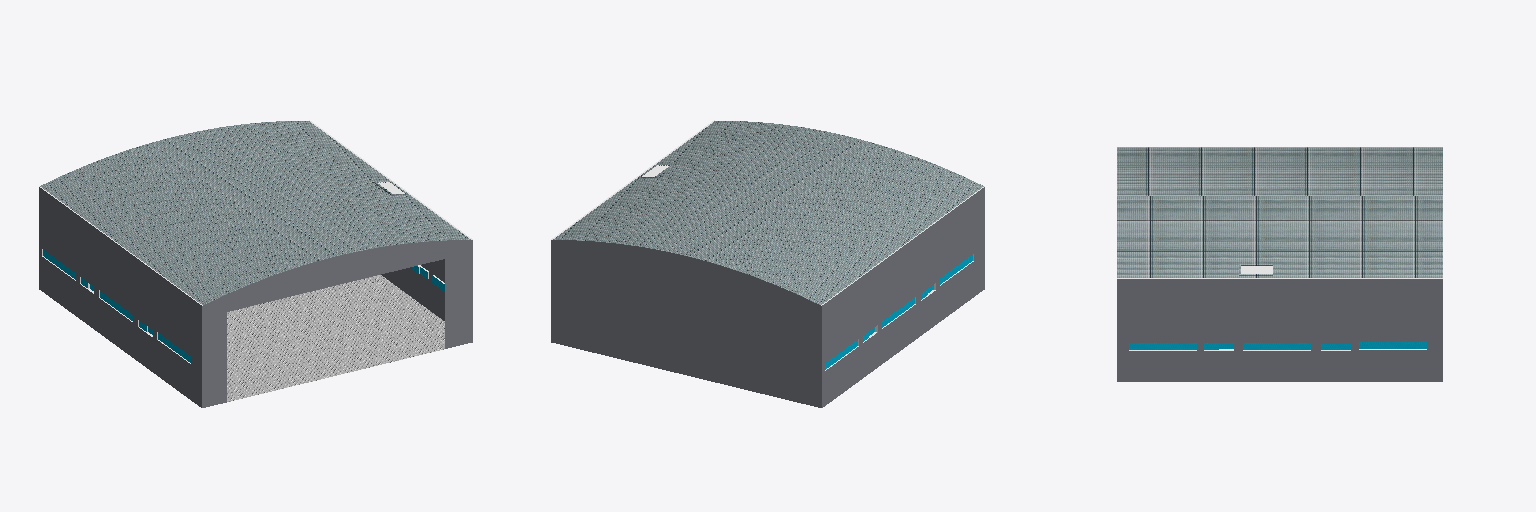
The picture shows the model from 3 angles: view 1: azimuth 30°, elevation 25°; view 2: azimuth 150°, elevation 25°; view 3: azimuth 270°, elevation 25°; orthographic projection.
Visible parts, largest first — view 1: mesh1; view 2: mesh1; view 3: mesh1.
Part boxes in pixels (left/top/right/bottom): mesh1: left=39, top=120, right=472, bottom=407; mesh1: left=551, top=120, right=984, bottom=407; mesh1: left=1117, top=147, right=1442, bottom=381.
Size of the model in its own units: 3686 by 1551 by 3842.
Materials: 5 (3 with a texture image).